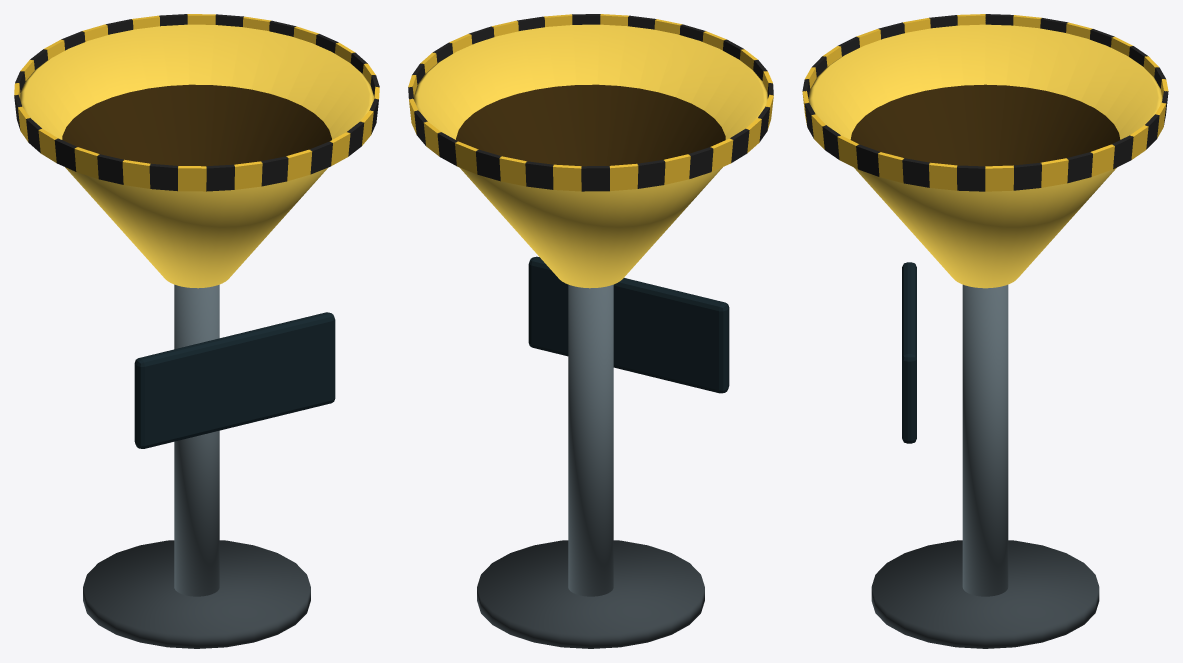
File: funnel.glb
The picture shows the model from 3 angles, left to right: view 1: azimuth 30°, elevation 25°; view 2: azimuth 150°, elevation 25°; view 3: azimuth 270°, elevation 25°; orthographic projection.
Parts seen in each view (by area): view 1: cone, sign, foot.002, cone_in, rim, pole; view 2: cone, foot.002, cone_in, rim, sign, pole; view 3: cone, foot.002, cone_in, pole, rim, sign.
Part boxes in pixels (x1,y1,x2,y2): cone: [20, 24, 374, 288]; sign: [134, 312, 335, 448]; foot.002: [83, 540, 310, 648]; cone_in: [62, 84, 331, 166]; rim: [14, 14, 379, 191]; pole: [174, 284, 219, 596]; cone: [413, 24, 767, 288]; foot.002: [477, 540, 704, 648]; cone_in: [456, 84, 725, 166]; rim: [408, 14, 773, 191]; sign: [528, 256, 729, 393]; pole: [568, 284, 613, 596]; cone: [808, 24, 1162, 288]; foot.002: [871, 540, 1099, 648]; cone_in: [850, 84, 1120, 166]; pole: [962, 284, 1008, 596]; rim: [802, 14, 1168, 191]; sign: [902, 262, 916, 443].
Bounding box in the file's own units: 0.964 × 1.48 × 0.964.
